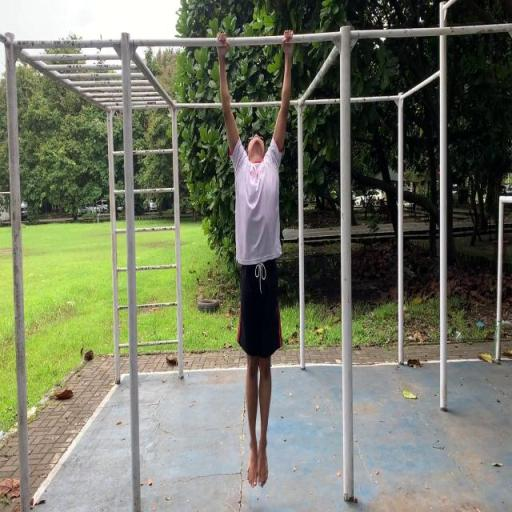Normal_BrenchPress: (215, 29, 296, 488)
